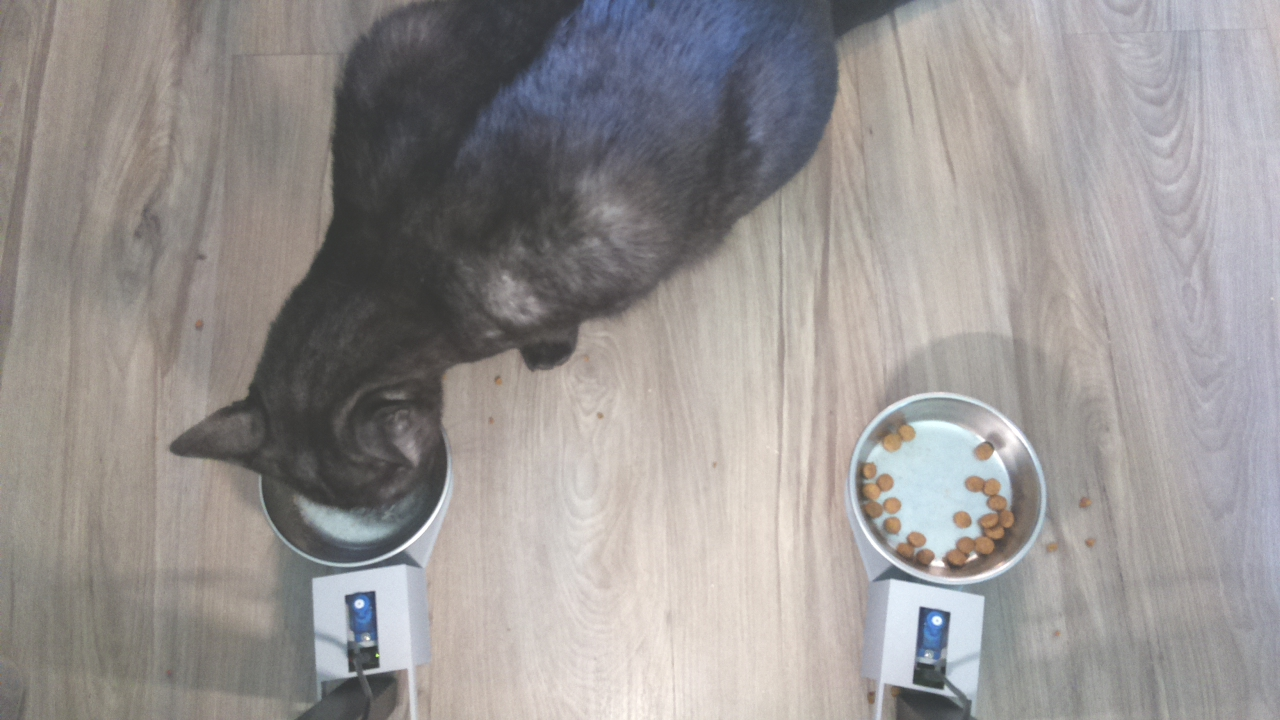open_bowl: (847, 383, 1058, 590)
saki_eating: (161, 302, 470, 582)
